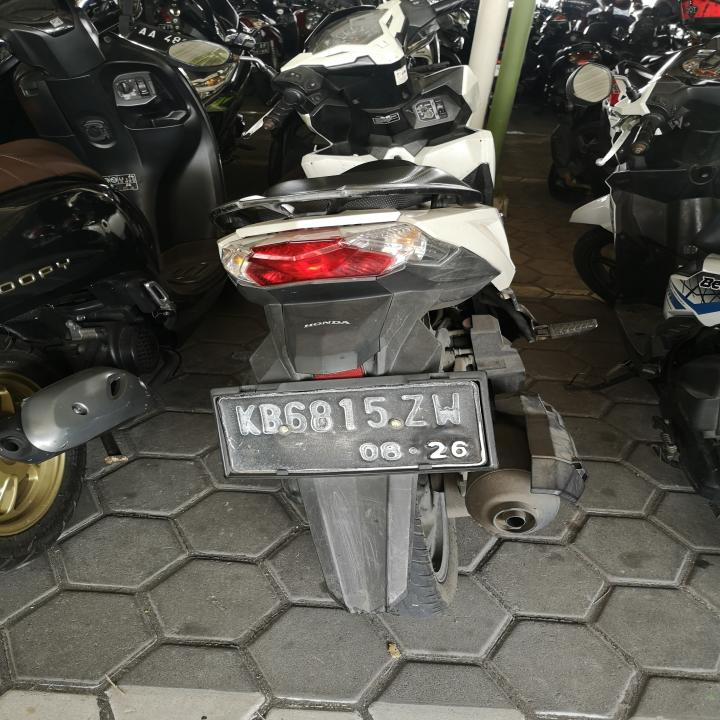plate: (208, 371, 496, 483)
